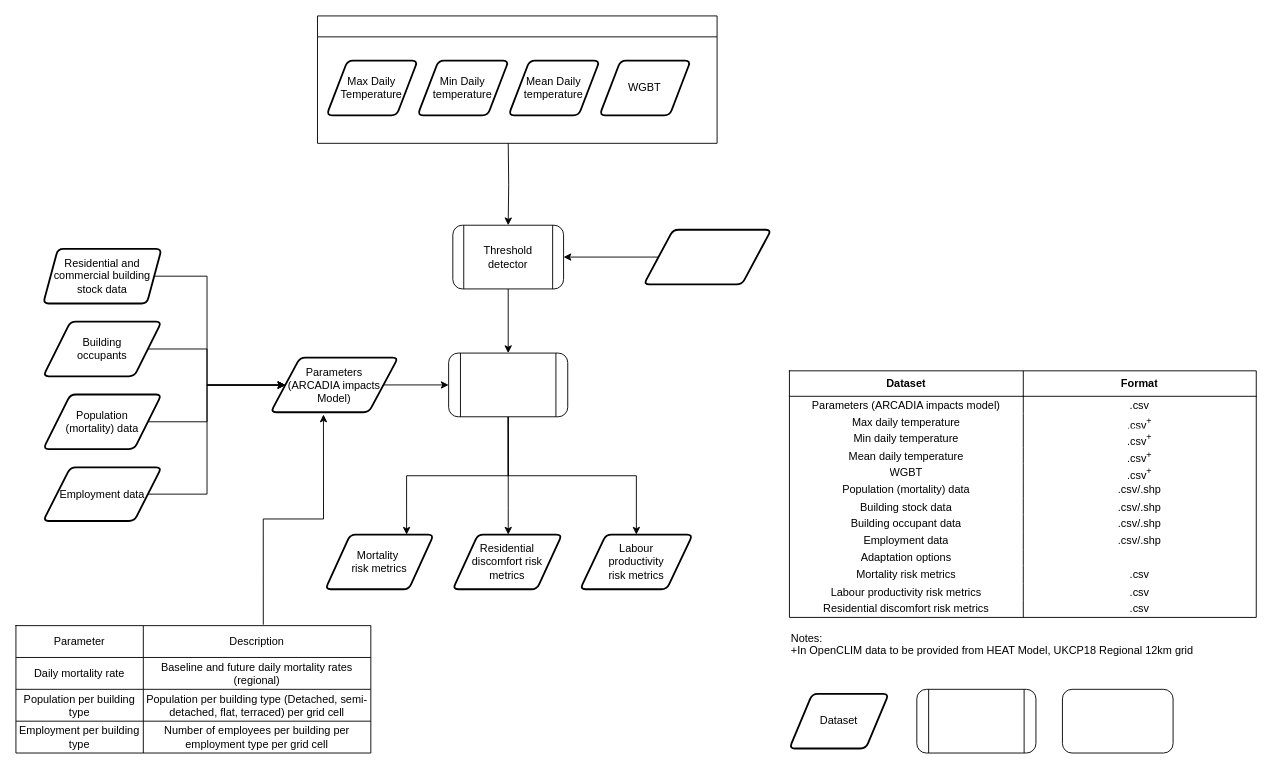
The diagram is 1274 pixels wide and 769 high, and some of its shapes have lost their labels. The shapes that lost their labels are listed below. From the top down, each one's box as (x1, y1, x2, y2) in pixels, then its label:
(317, 15, 717, 143): Weather variable data layer
(642, 228, 772, 285): Adaptation
(448, 352, 568, 417): ARCADIA IMPACTS MODEL
(916, 688, 1036, 753): Model/process (already developed)
(1062, 688, 1173, 753): Model/process not developed
